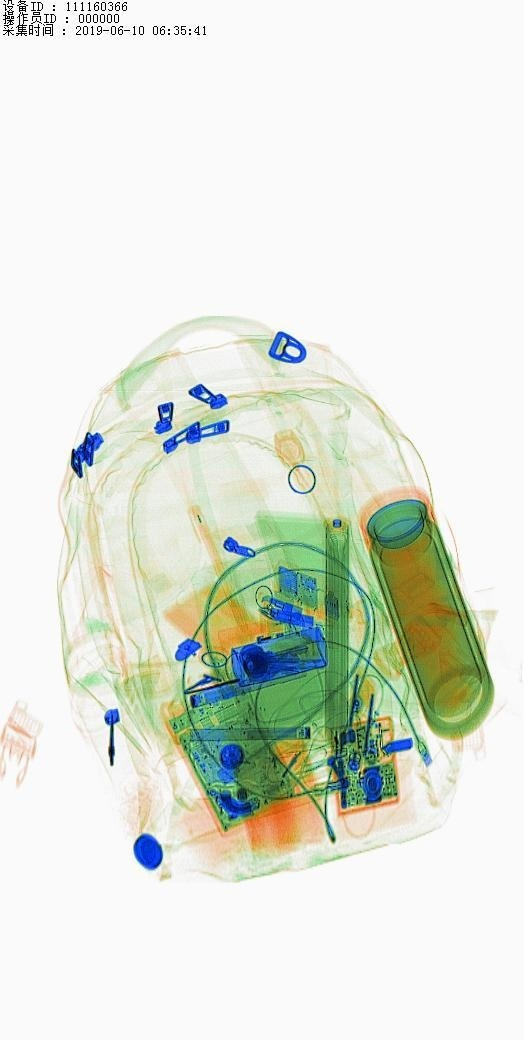NonmetallicFire: (187, 607, 330, 661)
